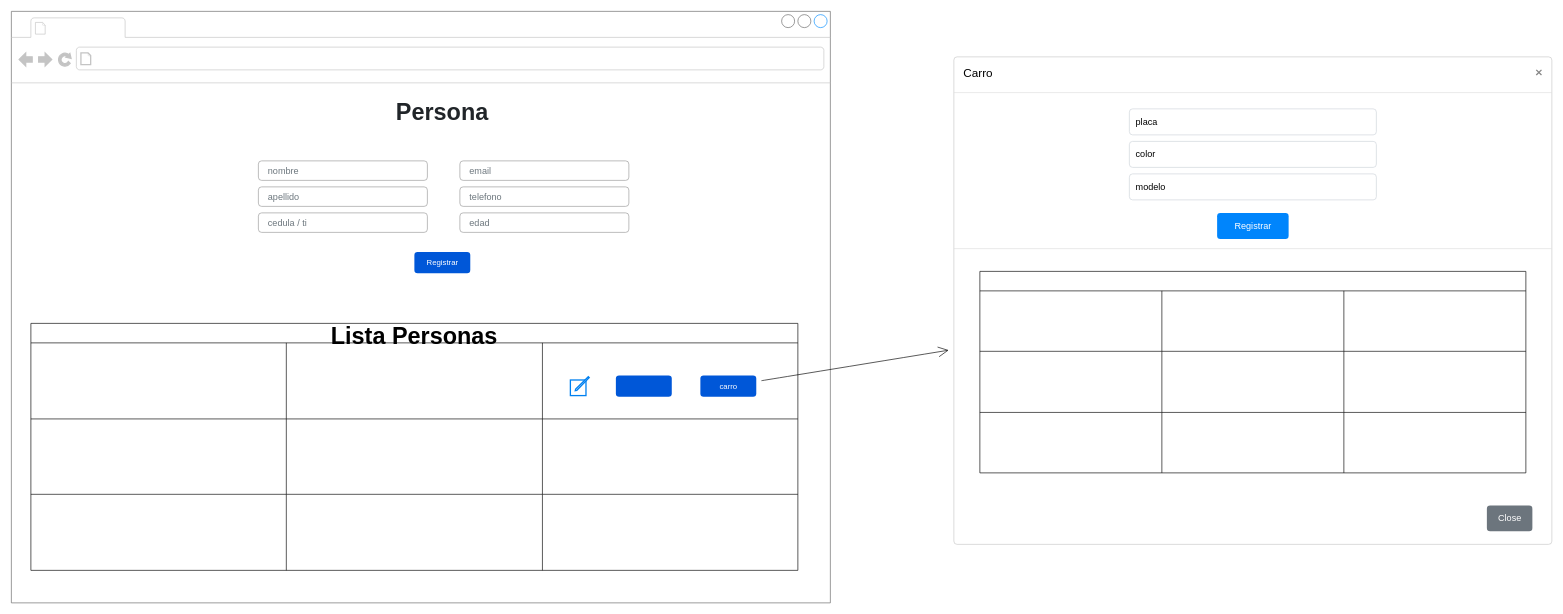
This 1563x614 diagram has some shape labels left out. Each missing label, with the centre of its shape:
eliminar: (x=643, y=385)
https://www.draw.io: (x=176, y=58)
Lista Carros: (x=1252, y=372)
Page 1: (x=86, y=27)
